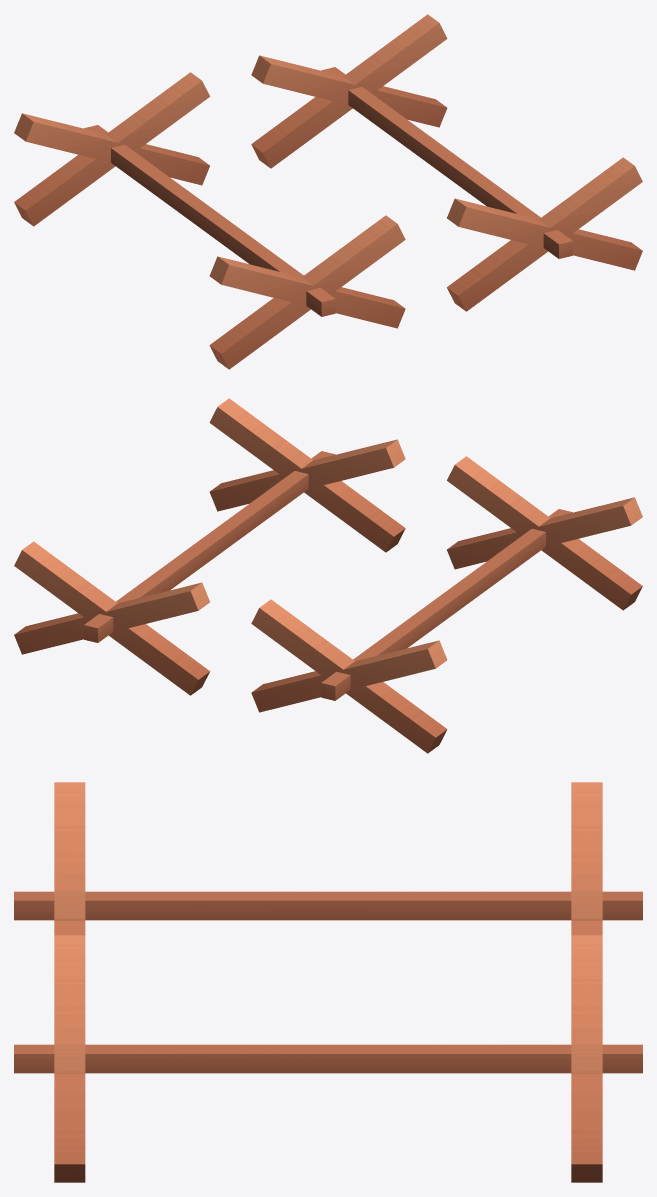
Rendered from bedrolls.glb.
The picture shows the model from 3 angles, top to bottom: view 1: azimuth 30°, elevation 25°; view 2: azimuth 150°, elevation 25°; view 3: azimuth 270°, elevation 25°; orthographic projection. The views are drawn at different scales.
Parts seen in each view (by area): view 1: bedrolls; view 2: bedrolls; view 3: bedrolls.
Part boxes in pixels (x1,y1,x2,y2): bedrolls: (14, 14, 642, 369); bedrolls: (14, 398, 642, 753); bedrolls: (14, 782, 642, 1182).
Bounding box in the file's own units: 3.73 × 0.8863 × 3.65.
2 materials, 2 textured.
